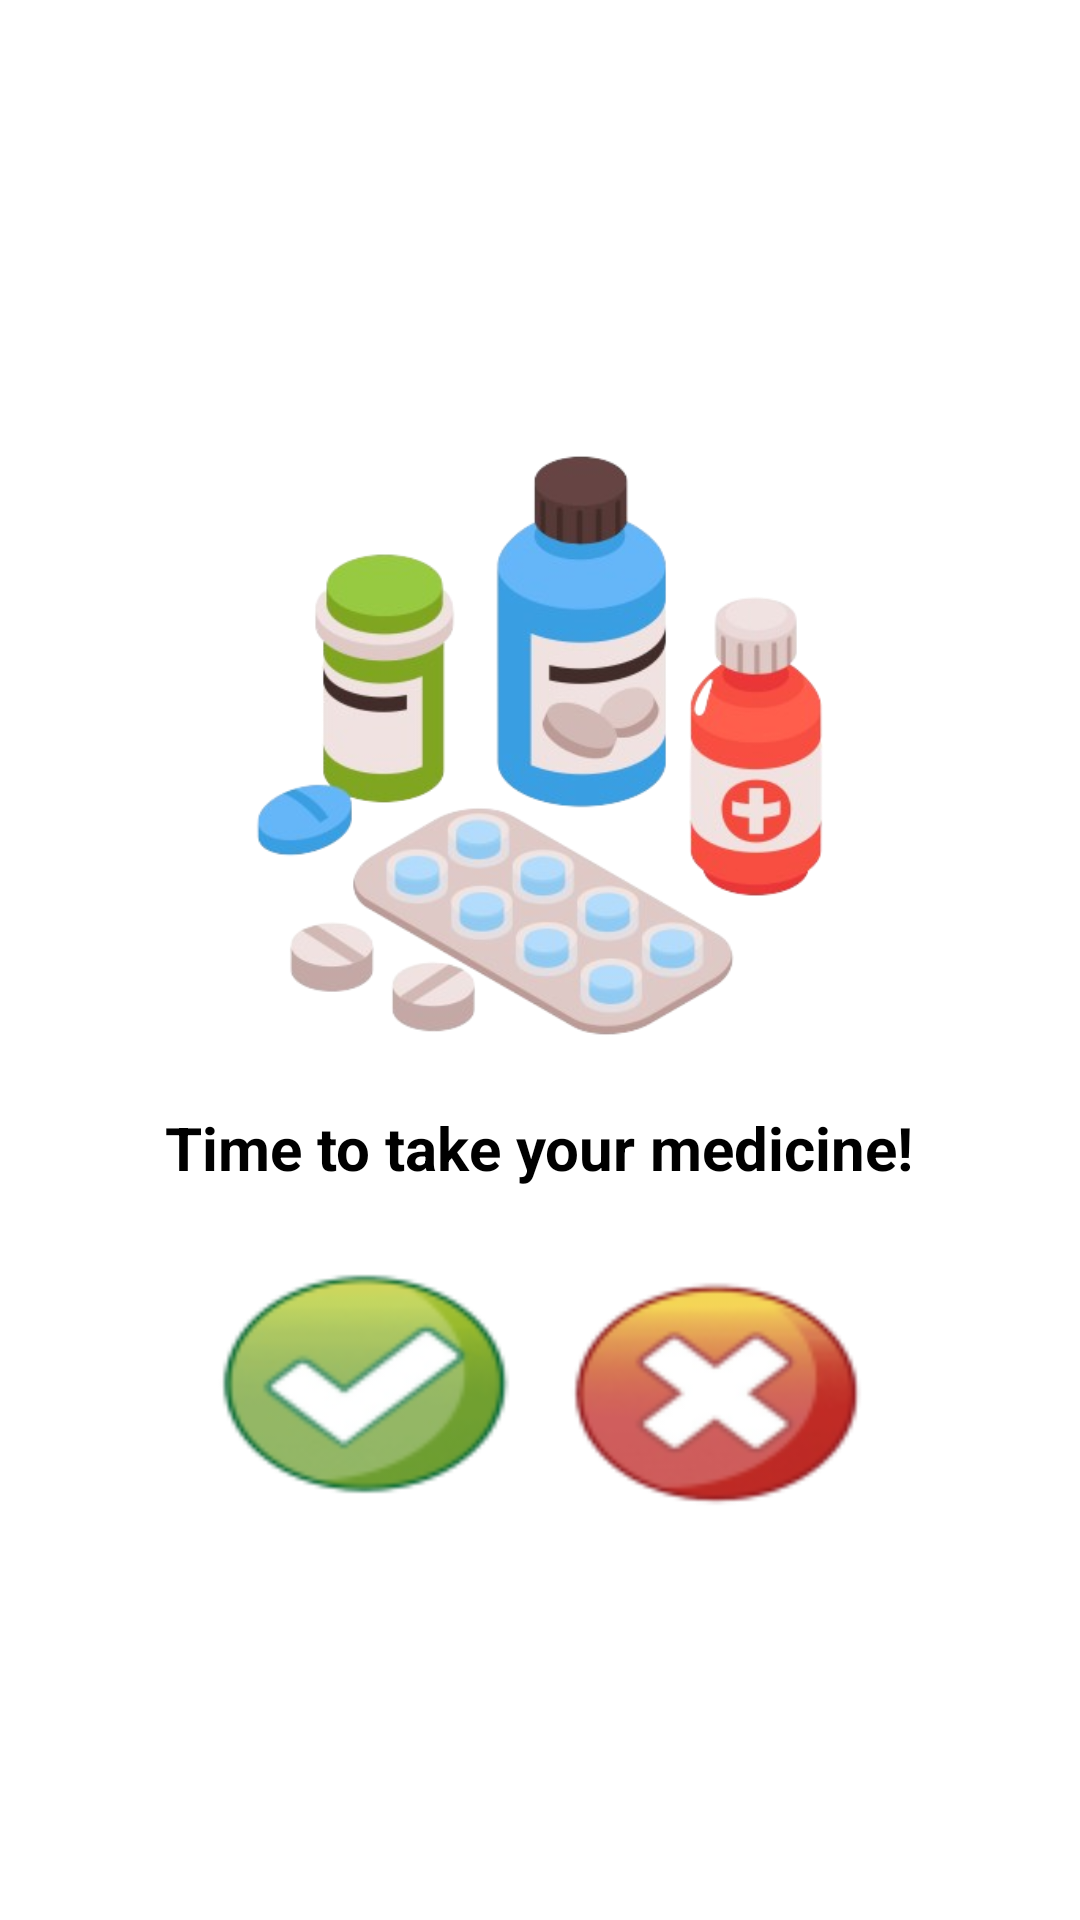

Point at icon controls on the screen. Image size 1080 x 1920, points as (x=x, y=y).
No: (x=716, y=1393)
Yes: (x=365, y=1384)
